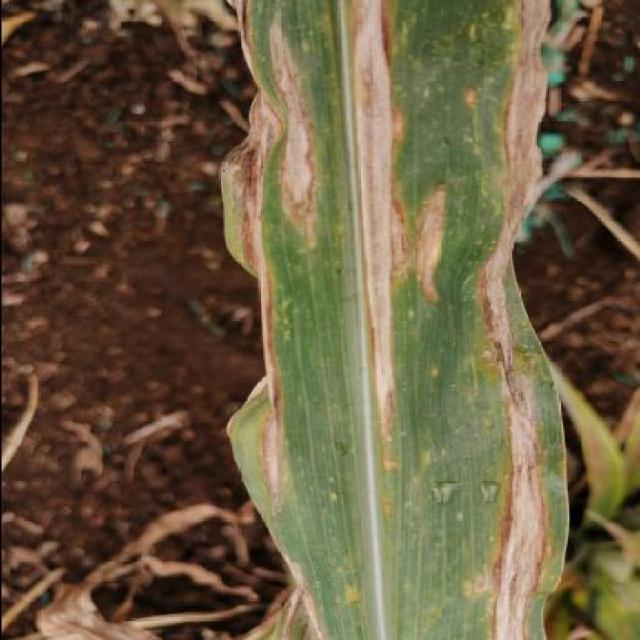Corn_Leaf_Blight: (212, 0, 565, 640)
